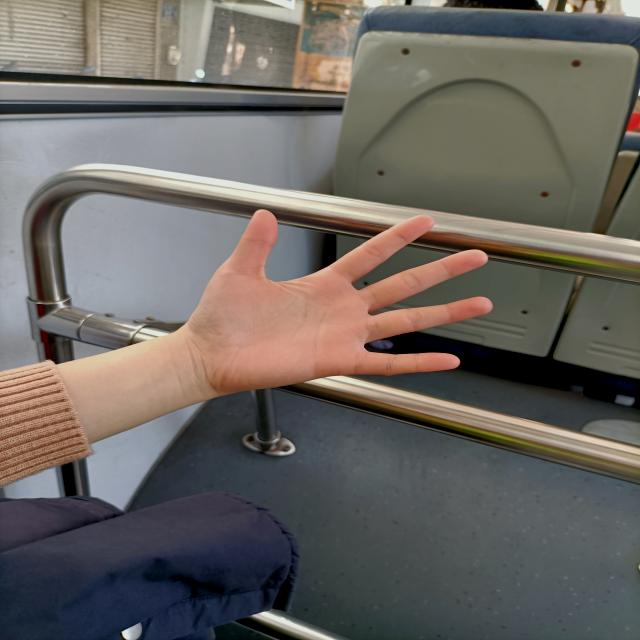no_glove: (172, 189, 501, 414)
